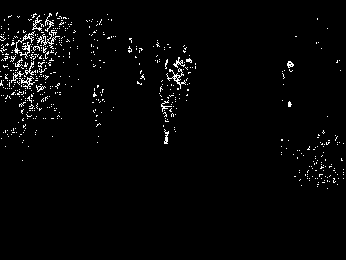person: (159, 69, 182, 145)
